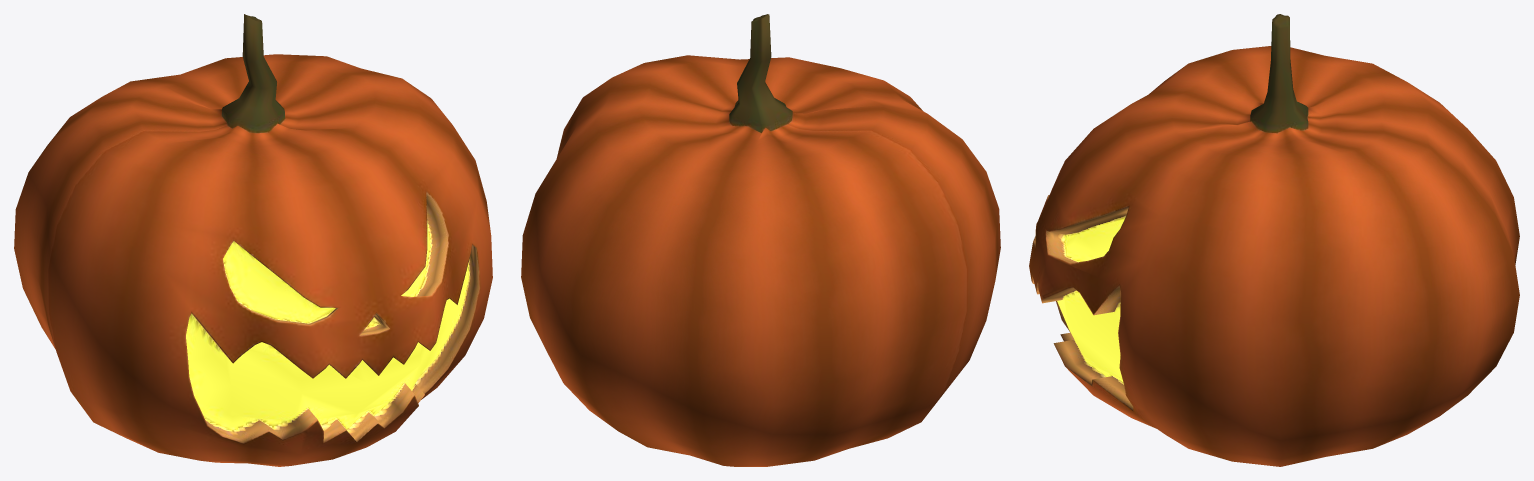
The model's file is pumpkin 2.glb.
The picture shows the model from 3 angles, left to right: view 1: azimuth 30°, elevation 25°; view 2: azimuth 150°, elevation 25°; view 3: azimuth 270°, elevation 25°; orthographic projection.
Parts seen in each view (by area): view 1: Sphere.002; view 2: Sphere.002; view 3: Sphere.002.
Part boxes in pixels (box(x1,y1,x2,y2)): Sphere.002: box(14, 14, 492, 466); Sphere.002: box(521, 14, 1000, 466); Sphere.002: box(1029, 14, 1519, 466).
Bounding box in the file's own units: 1.39 × 1.32 × 1.46.
Materials: 1 (1 with a texture image).
